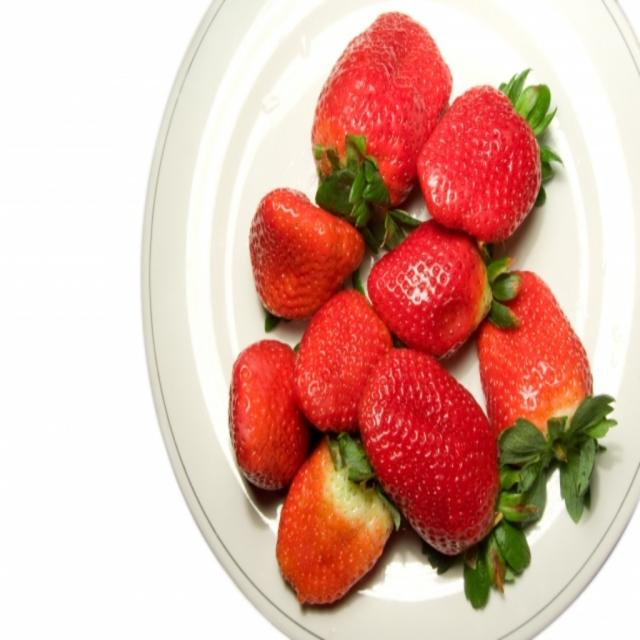non-organic waste: (138, 4, 639, 640)
